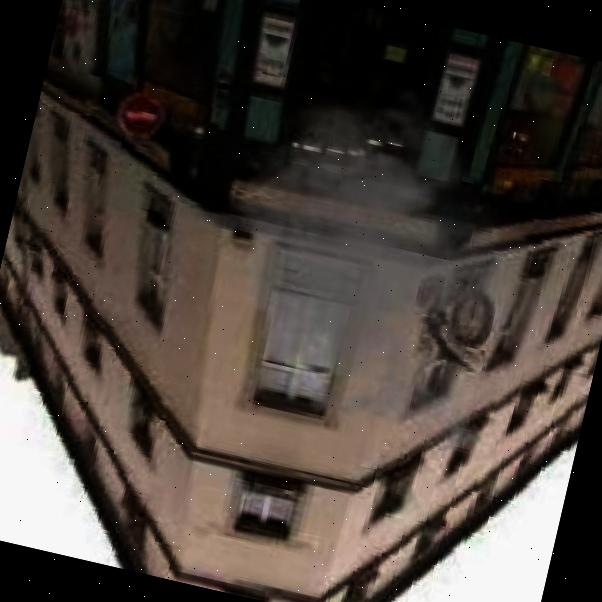smoke: (180, 83, 531, 449)
